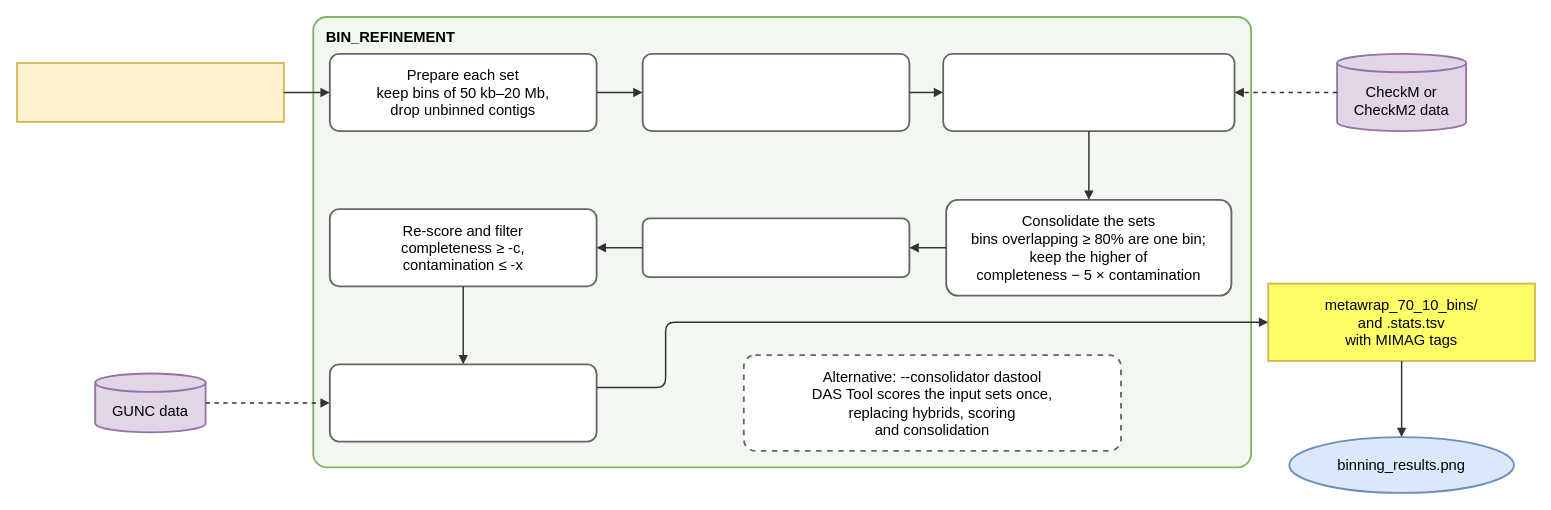
Image size: 1551x510. Some labels were removed from this diagram. The centre of each missing label's shape, as x and y in pixels:
"Bin sets A–F from any binners" belongs at (150,92).
"Contigs in several bins keep each in its best bin" belongs at (775,247).
"Flag chimeric bins GUNC, CSS > 0.45 (--skip-gunc to turn off)" belongs at (462,402).
"Hybrid bin sets Binning_refiner: AB, AC, BC, ABC (pairs and all, for more sets)" belongs at (775,92).
"Score every set CheckM, or CheckM2 with --checkm2; identical bins scored once" belongs at (1088,92).
